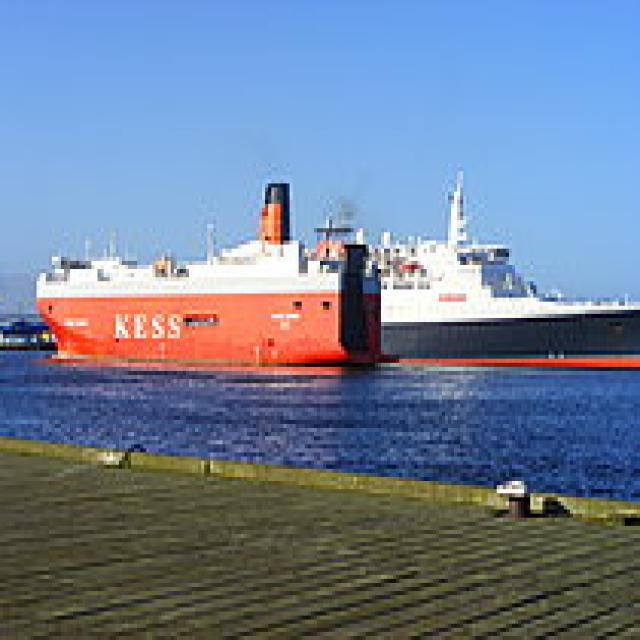Ship: (25, 168, 640, 405)
